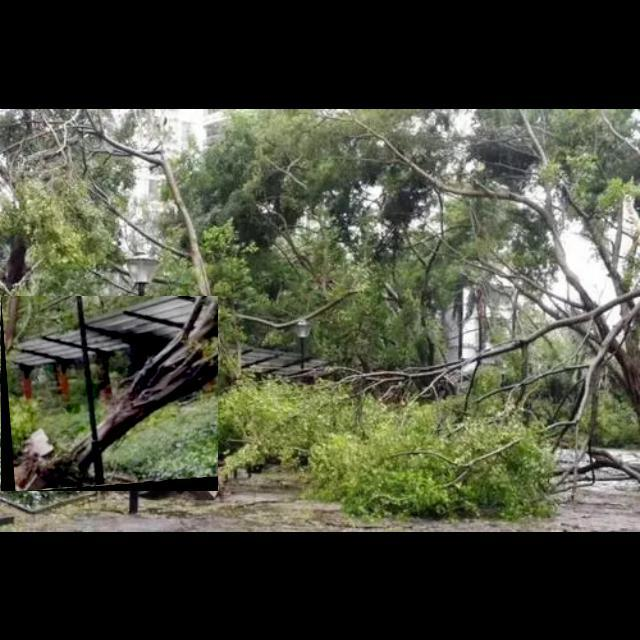fallen_tree: (1, 296, 219, 492)
